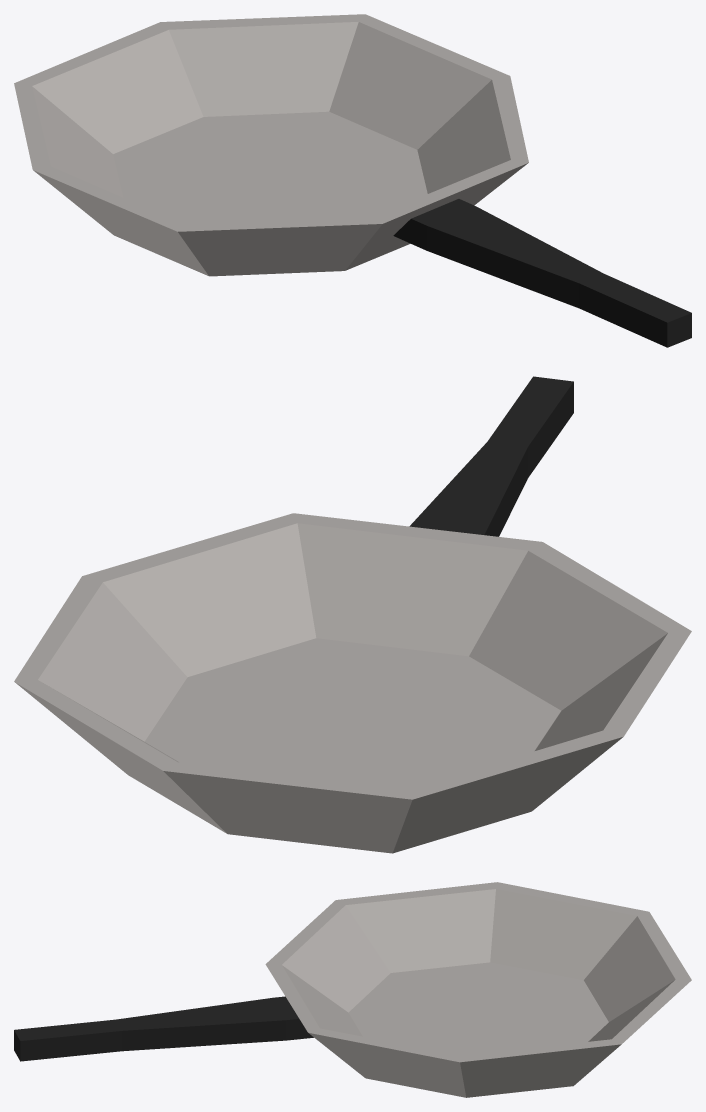
Rendered from Kitchen_Skillet.fbx.
3 views of the same model, one above another, from view 1: azimuth 30°, elevation 25°; view 2: azimuth 150°, elevation 25°; view 3: azimuth 270°, elevation 25° (orthographic). The views are drawn at different scales.
Visible parts, largest first — view 1: Kitchen_Skillet; view 2: Kitchen_Skillet; view 3: Kitchen_Skillet.
Part boxes in pixels (x1,y1,x2,y2): Kitchen_Skillet: [14, 14, 691, 347]; Kitchen_Skillet: [14, 376, 691, 853]; Kitchen_Skillet: [14, 882, 691, 1097].
Bounding box in the file's own units: 41.24 × 65.55 × 7.28.
